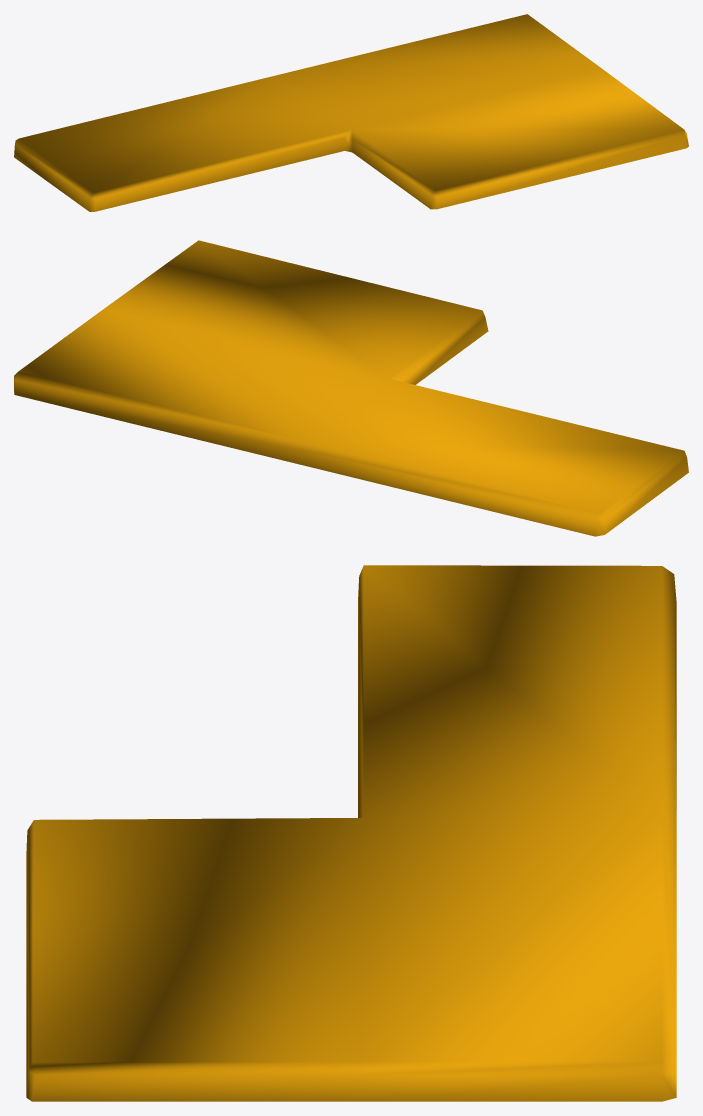
The model's file is Platform_L_5.fbx.
The picture shows the model from 3 angles, top to bottom: view 1: azimuth 30°, elevation 25°; view 2: azimuth 150°, elevation 25°; view 3: azimuth 270°, elevation 25°; orthographic projection. The views are drawn at different scales.
Parts seen in each view (by area): view 1: Platform_L_5; view 2: Platform_L_5; view 3: Platform_L_5.
Part boxes in pixels (x1,y1,x2,y2): Platform_L_5: (14,14,688,211); Platform_L_5: (14,240,688,536); Platform_L_5: (26,565,676,1101).
Size of the model in its own units: 3000 by 100 by 1632.
